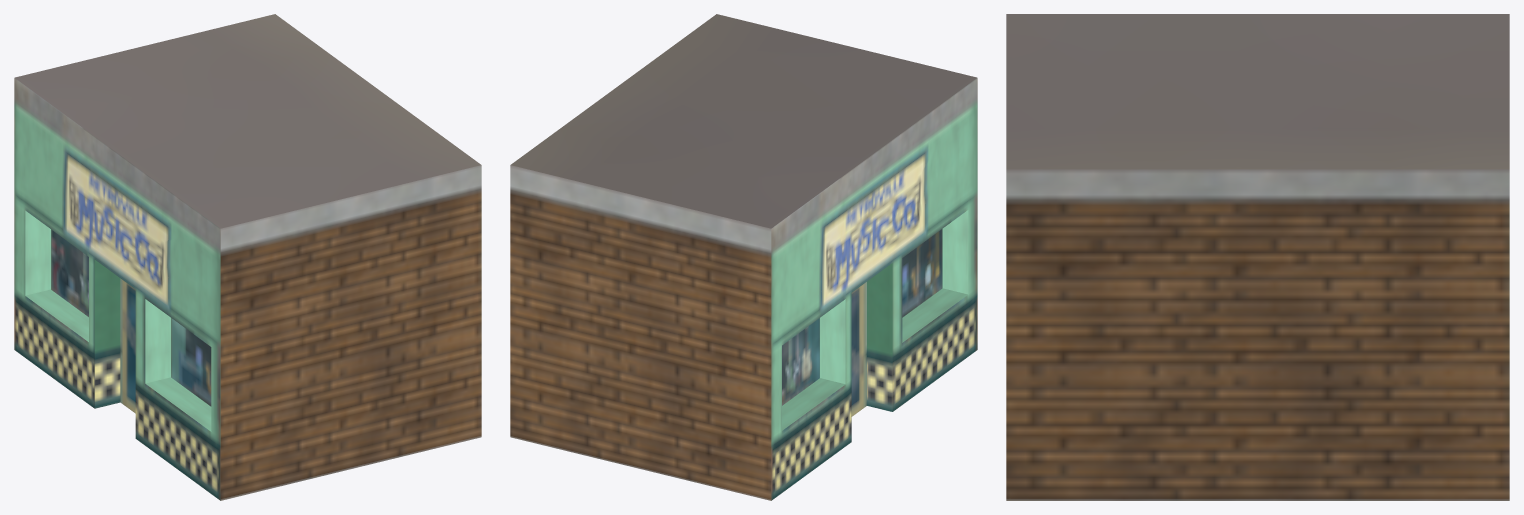
Rendered from build_1.glb.
The picture shows the model from 3 angles, left to right: view 1: azimuth 30°, elevation 25°; view 2: azimuth 150°, elevation 25°; view 3: azimuth 270°, elevation 25°; orthographic projection. The views are drawn at different scales.
Parts seen in each view (by area): view 1: build_1; view 2: build_1; view 3: build_1.
Boxes of the visible parts, x1,y1,x2,y2 form: build_1: (14,14,481,500); build_1: (510,14,977,500); build_1: (1006,14,1509,500).
Bounding box in the file's own units: 800 × 797 × 1096.
3 materials, 3 textured.
